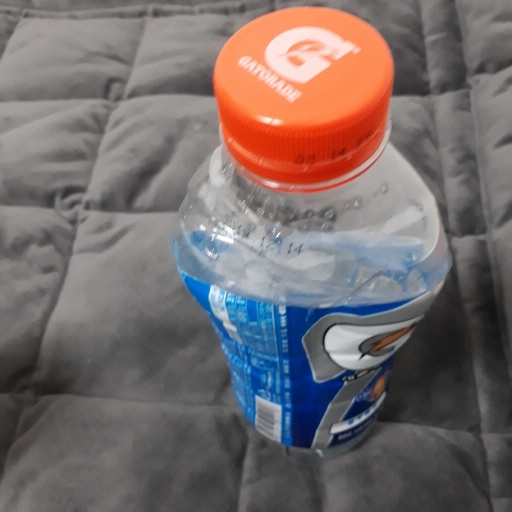Plastic_0: (168, 5, 453, 459)
